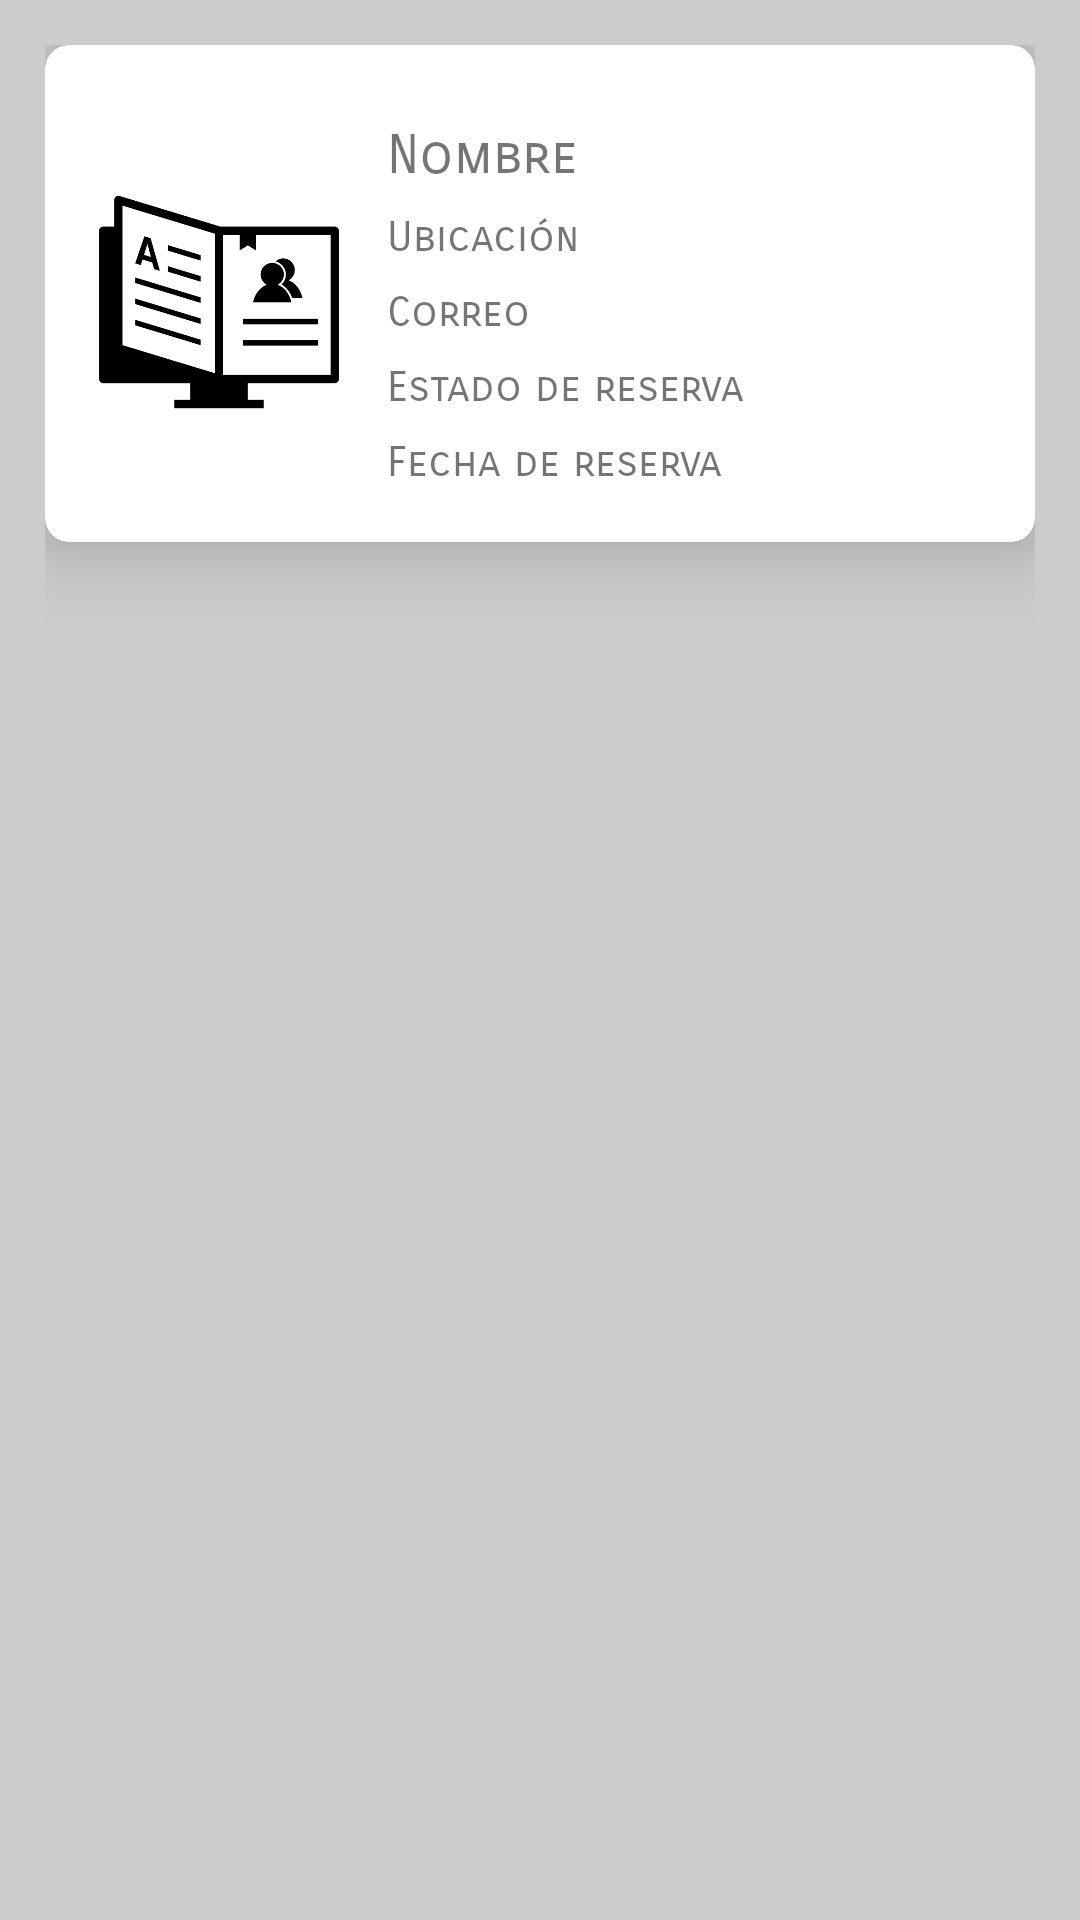

Point at icon controls on the screen. Image size 1080w x 1920h, points as (x=x, y=y).
reservicon: (x=219, y=302)
